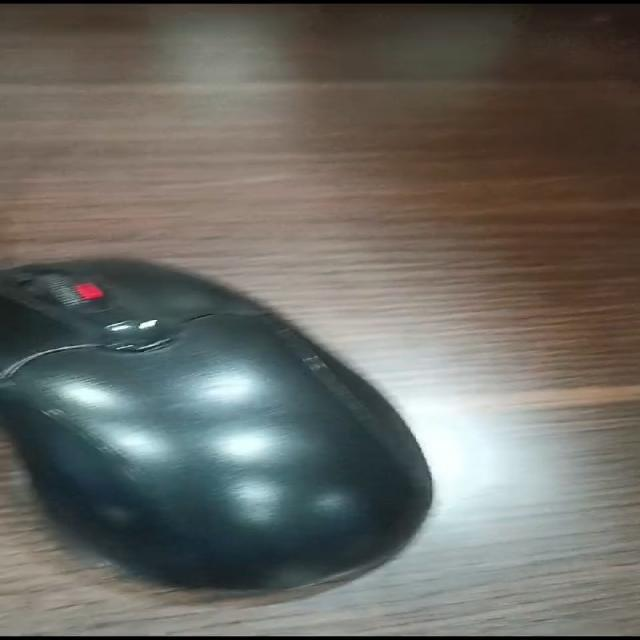Mouse: (3, 180, 471, 616)
